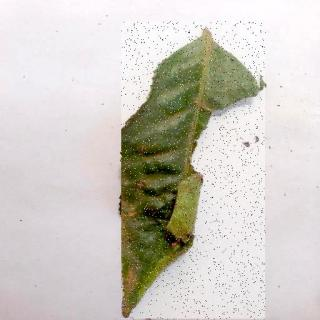Algal Leaf: (123, 23, 267, 320)
